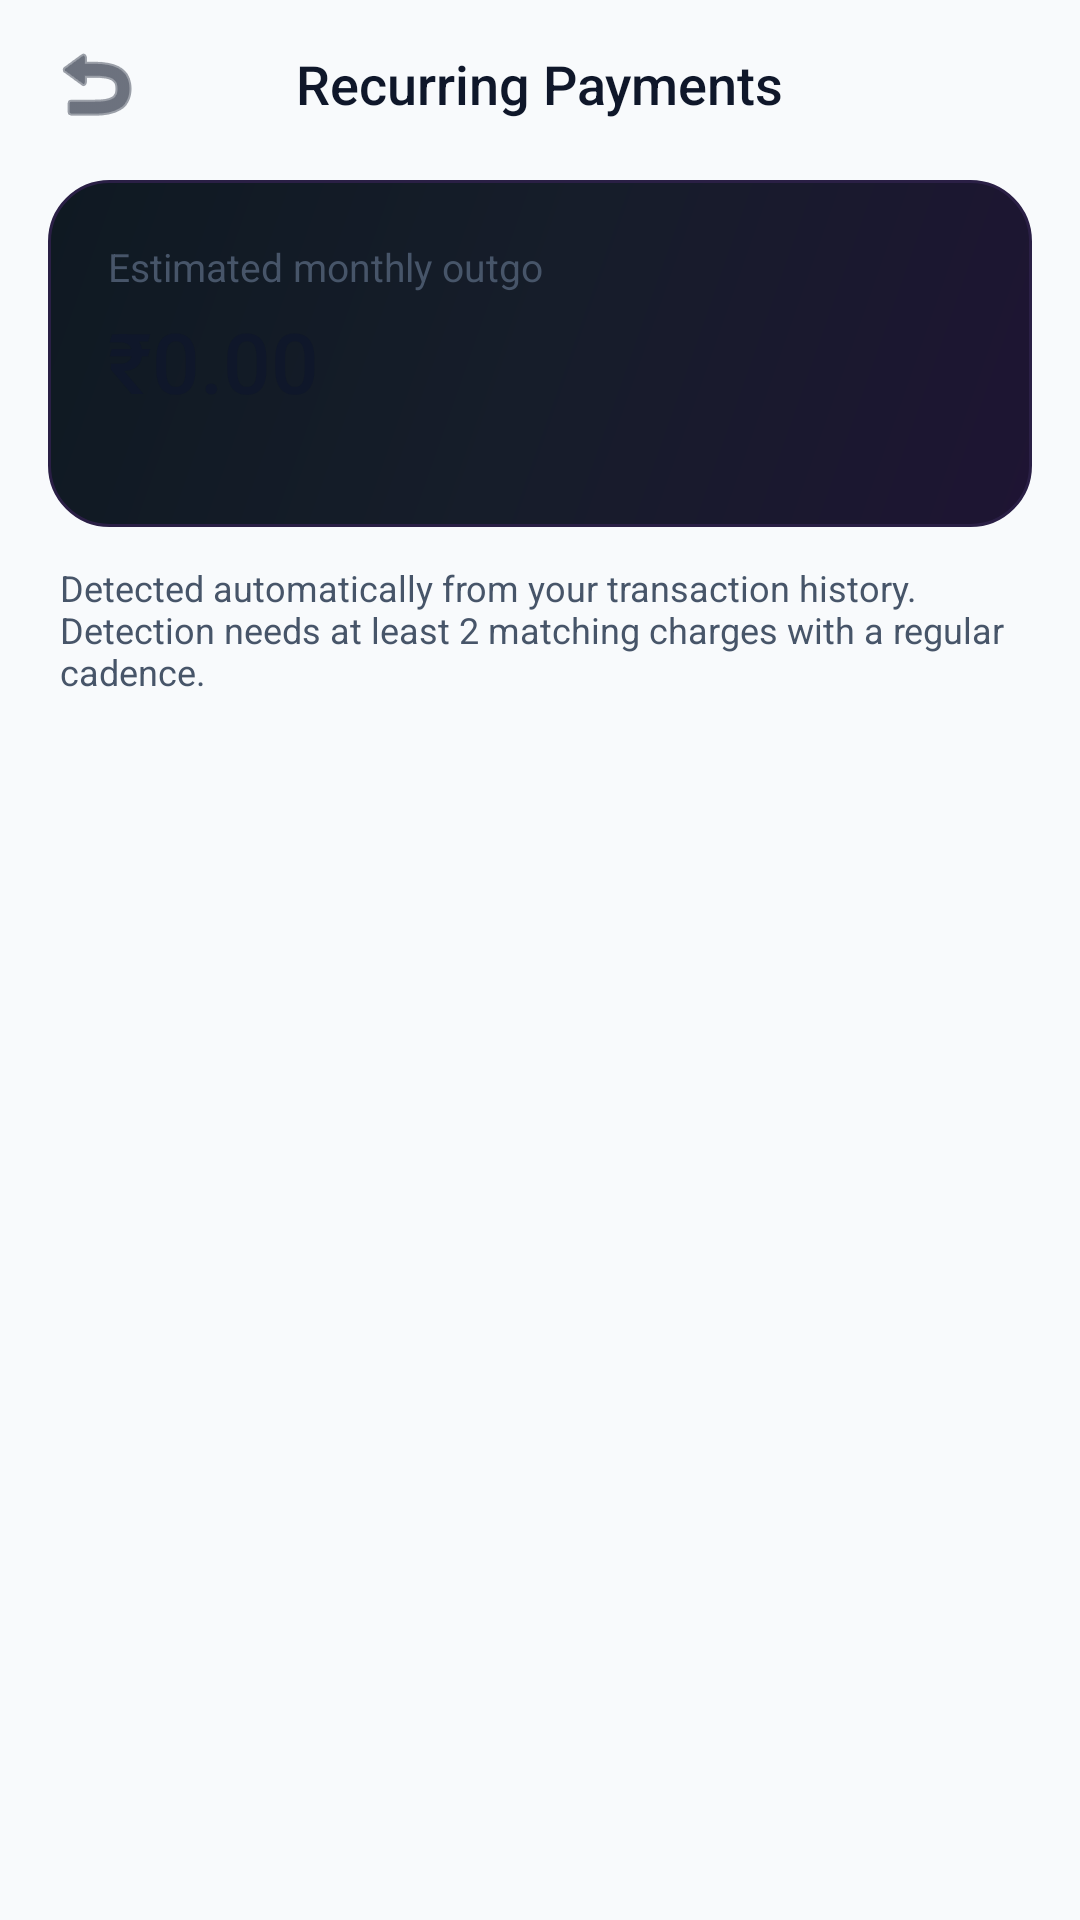

Named icons in this screenshot (1080×1920) and their centers, [x,y]:
Back: [97,84]
